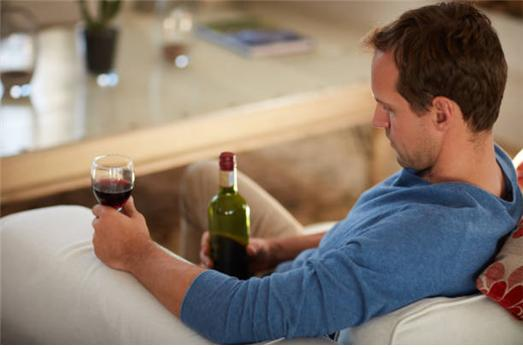alcohol: (205, 149, 254, 281), (89, 153, 135, 215)
